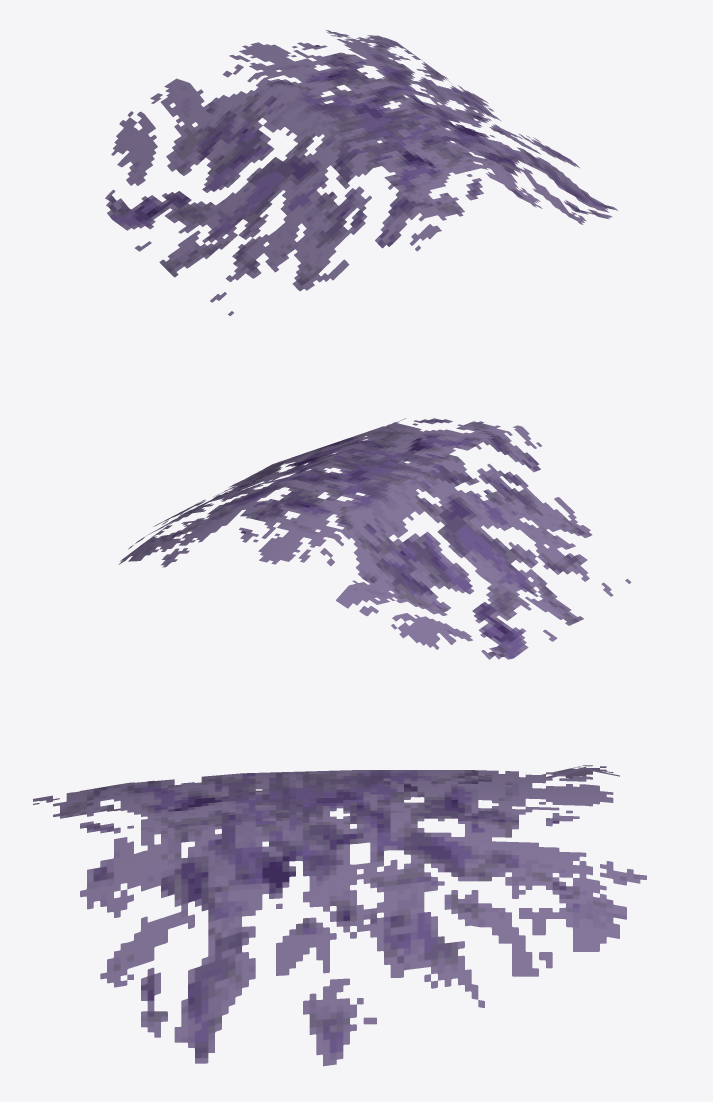
The model's file is Fungus.fbx.
3 renders of one model, top to bottom at view 1: azimuth 30°, elevation 25°; view 2: azimuth 150°, elevation 25°; view 3: azimuth 270°, elevation 25°, orthographic. The views are drawn at different scales.
Visible parts, largest first — view 1: Fungus_GuyLies; view 2: Fungus_GuyLies; view 3: Fungus_GuyLies.
Boxes of the visible parts, x1,y1,x2,y2 form: Fungus_GuyLies: [105, 30, 617, 315]; Fungus_GuyLies: [118, 418, 631, 659]; Fungus_GuyLies: [33, 765, 646, 1066].
Bounding box in the file's own units: 161 × 43.73 × 171.
